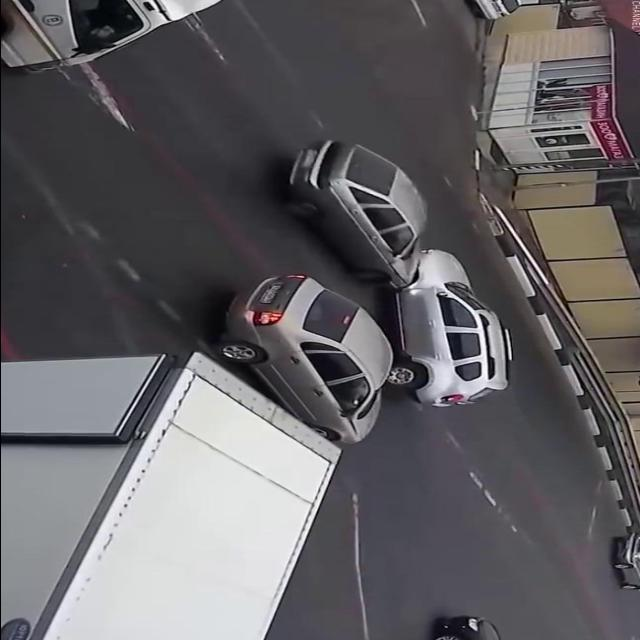accident: (264, 128, 528, 420)
